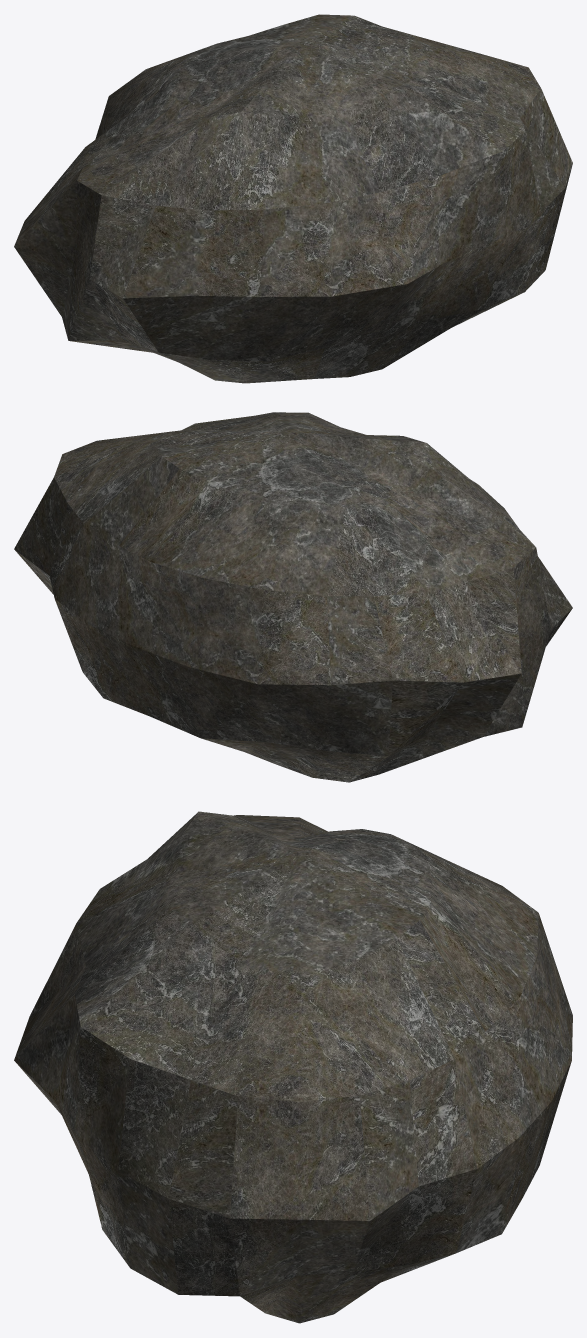
The model's file is roca_110.glb.
3 views of the same model, one above another, from view 1: azimuth 30°, elevation 25°; view 2: azimuth 150°, elevation 25°; view 3: azimuth 270°, elevation 25° (orthographic). The views are drawn at different scales.
Parts seen in each view (by area): view 1: roca_110; view 2: roca_110; view 3: roca_110.
Part boxes in pixels (x1,y1,x2,y2): roca_110: (14,14,572,383); roca_110: (14,412,572,782); roca_110: (14,811,572,1323).
Bounding box in the file's own units: 1.1 × 0.65 × 0.8.
1 material, 1 textured.
